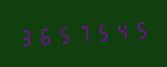five: (55, 21, 73, 47), (131, 16, 149, 42), (93, 19, 111, 44)
four: (112, 17, 130, 43)
seven: (74, 20, 92, 46)
six: (36, 23, 54, 48)
three: (17, 24, 35, 50)
